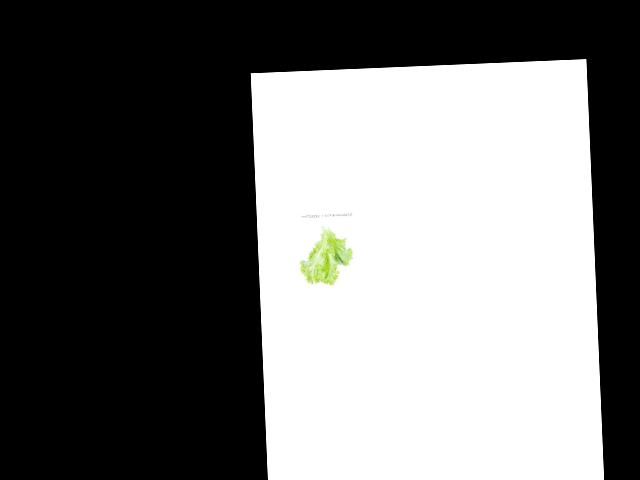lettuce: (298, 220, 355, 287)
